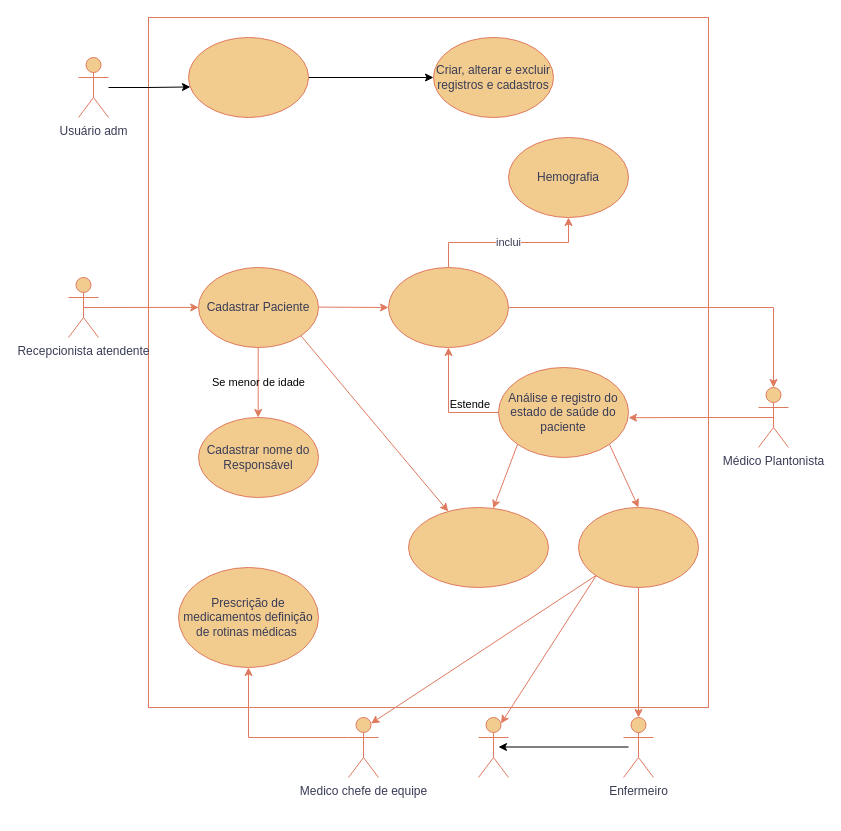
The diagram is 841 pixels wide and 831 high, and some of its shapes have lost their labels. Each missing label, with the box of its shape:
Chefe de Enfermagem: (478, 716, 508, 778)
Criar e gerenciar usuários do sistema: (188, 36, 308, 118)
Encaminhamento para ala médica de acordo com a necessidade: (408, 506, 548, 588)
Exames clínicos: (388, 266, 508, 348)
Seleção de profissionais médicos responsáveis: (578, 506, 698, 588)
